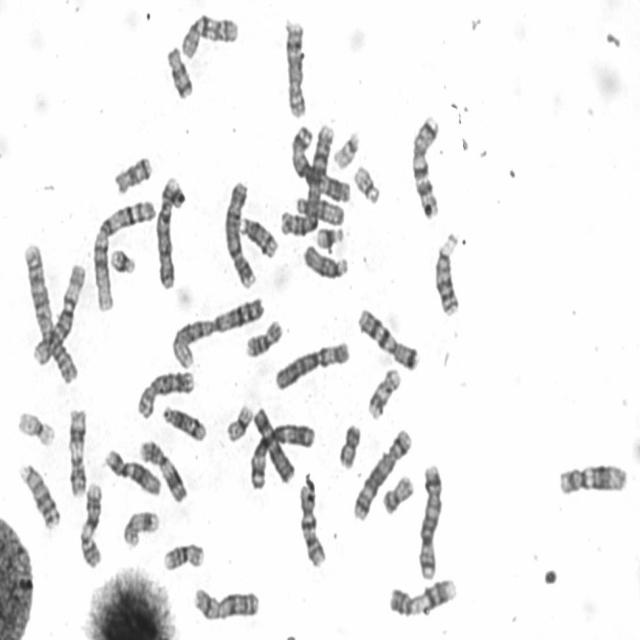A1: (90, 195, 157, 313), (168, 291, 266, 370)
A2: (19, 238, 80, 386), (277, 119, 337, 238)
A3: (287, 122, 352, 204), (247, 417, 317, 490)
B4: (220, 176, 258, 290), (153, 172, 185, 291)
B5: (349, 424, 413, 524), (414, 459, 444, 581)
C10: (177, 9, 239, 61), (296, 476, 328, 570)
C11: (136, 434, 188, 504), (64, 403, 89, 498)
C12: (100, 444, 162, 497), (554, 458, 629, 497)
C6: (29, 258, 88, 366), (272, 336, 352, 393)
C7: (354, 303, 420, 372), (408, 110, 442, 220)
C8: (133, 365, 196, 420), (281, 15, 308, 119)
C9: (386, 573, 458, 619), (76, 478, 104, 570)
D13: (15, 459, 61, 531), (431, 229, 461, 317)
D14: (235, 211, 279, 260), (158, 400, 208, 443)
D15: (300, 240, 350, 281), (293, 191, 346, 227)
E16: (242, 314, 284, 360), (160, 538, 206, 573)
E17: (364, 364, 402, 422), (119, 506, 161, 550)
E18: (110, 150, 154, 196), (163, 41, 195, 100)
F19: (14, 406, 56, 449), (222, 399, 254, 443)
F20: (379, 469, 416, 516), (335, 419, 362, 470)
G21: (107, 244, 138, 276), (312, 222, 344, 251)
G22: (350, 160, 381, 206), (330, 126, 361, 171)
X: (250, 402, 296, 486), (190, 582, 261, 622)
